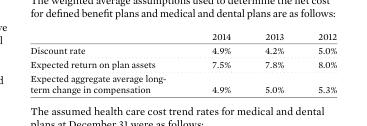table: (29, 28, 336, 95)
table column: (29, 28, 188, 95), (188, 28, 247, 95), (247, 28, 300, 95), (300, 28, 336, 95)
table column header: (29, 28, 336, 42)
table row: (29, 70, 336, 95), (29, 28, 336, 42), (29, 42, 336, 56), (29, 56, 336, 70)
